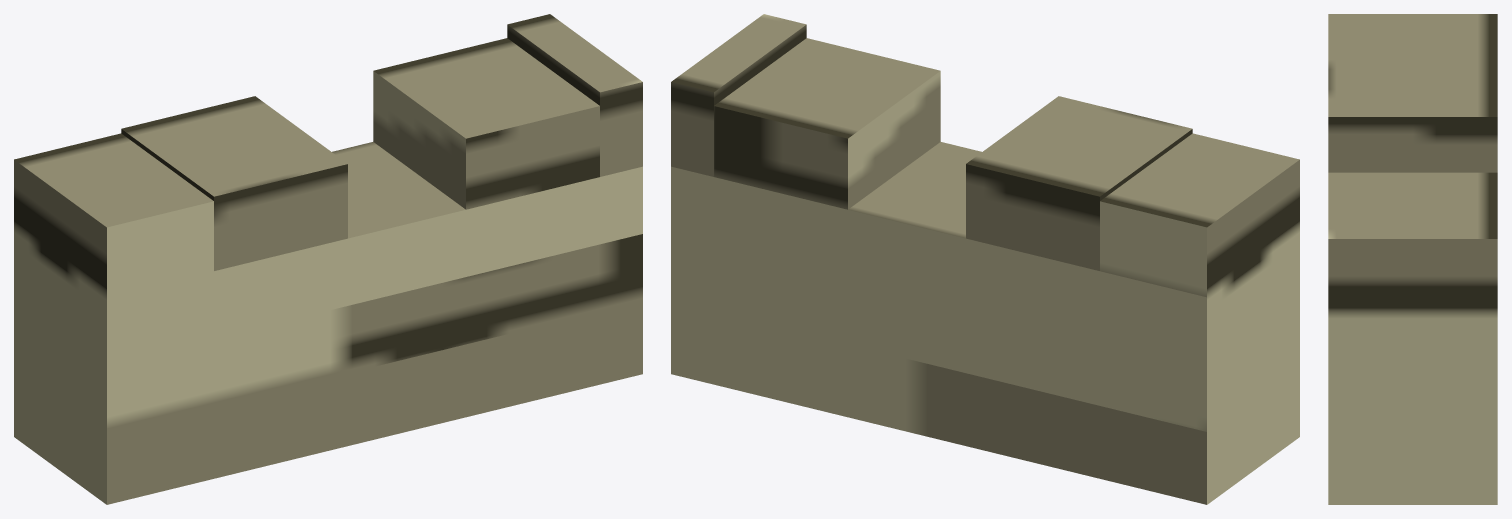
File: wall_b.fbx
The picture shows the model from 3 angles, left to right: view 1: azimuth 30°, elevation 25°; view 2: azimuth 150°, elevation 25°; view 3: azimuth 270°, elevation 25°; orthographic projection. The views are drawn at different scales.
Parts seen in each view (by area): view 1: prop; view 2: prop; view 3: prop.
Boxes of the visible parts, x1=… form: prop: x1=14, y1=14, x2=642, y2=504; prop: x1=671, y1=14, x2=1299, y2=504; prop: x1=1328, y1=14, x2=1497, y2=504.
Size of the model in its own units: 1 by 0.5208 by 0.3.
